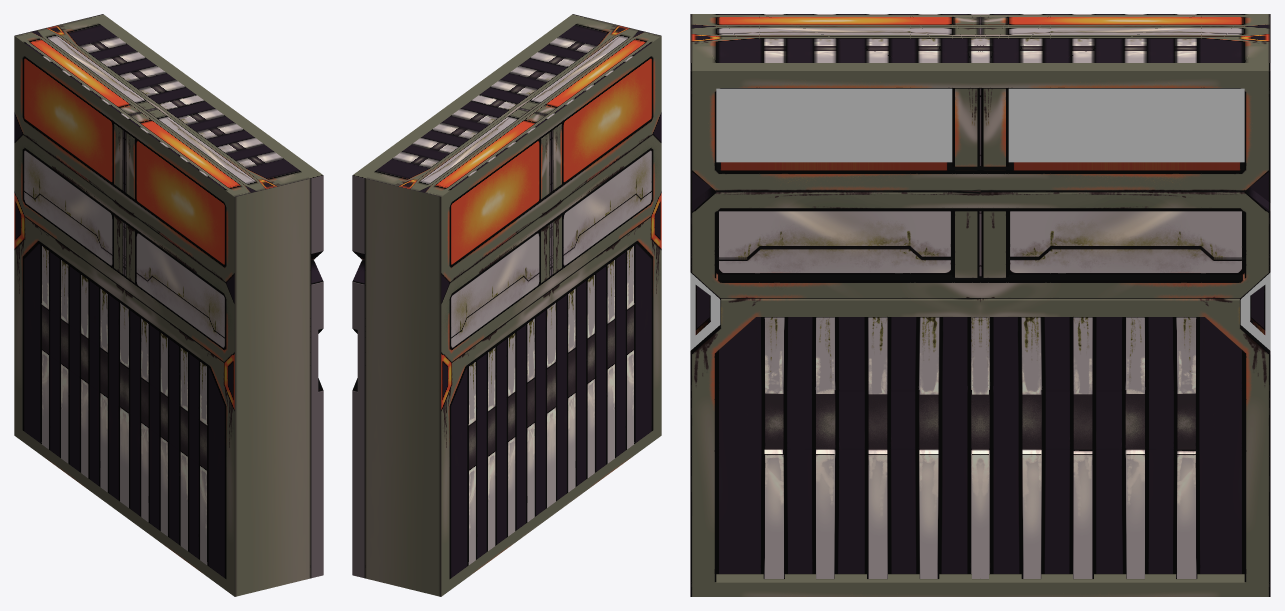
File: wall1.fbx
3 views of the same model, side by side, from view 1: azimuth 30°, elevation 25°; view 2: azimuth 150°, elevation 25°; view 3: azimuth 270°, elevation 25° (orthographic). The views are drawn at different scales.
Parts seen in each view (by area): view 1: Cube; view 2: Cube; view 3: Cube.
Part boxes in pixels (x1,y1,x2,y2): Cube: (14,14,323,596); Cube: (352,14,661,596); Cube: (690,14,1270,596).
Bounding box in the file's own units: 116 × 500 × 500.
2 materials, 1 textured.
